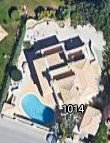pool: (23, 96, 54, 124)
